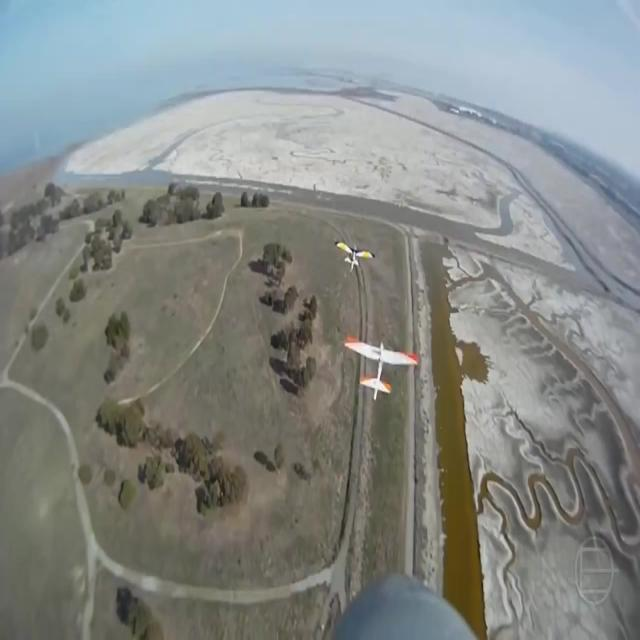iha: (334, 240, 376, 272), (378, 366, 384, 369)
